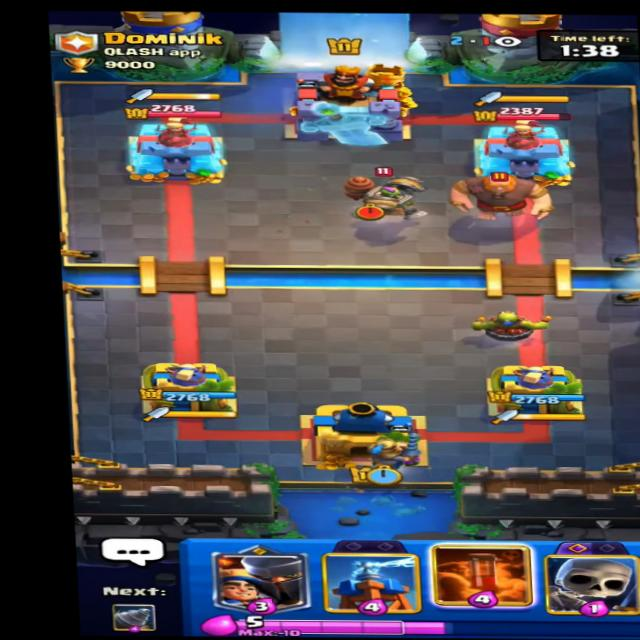giant: (437, 160, 554, 227)
goblin-machine: (317, 160, 441, 222)
